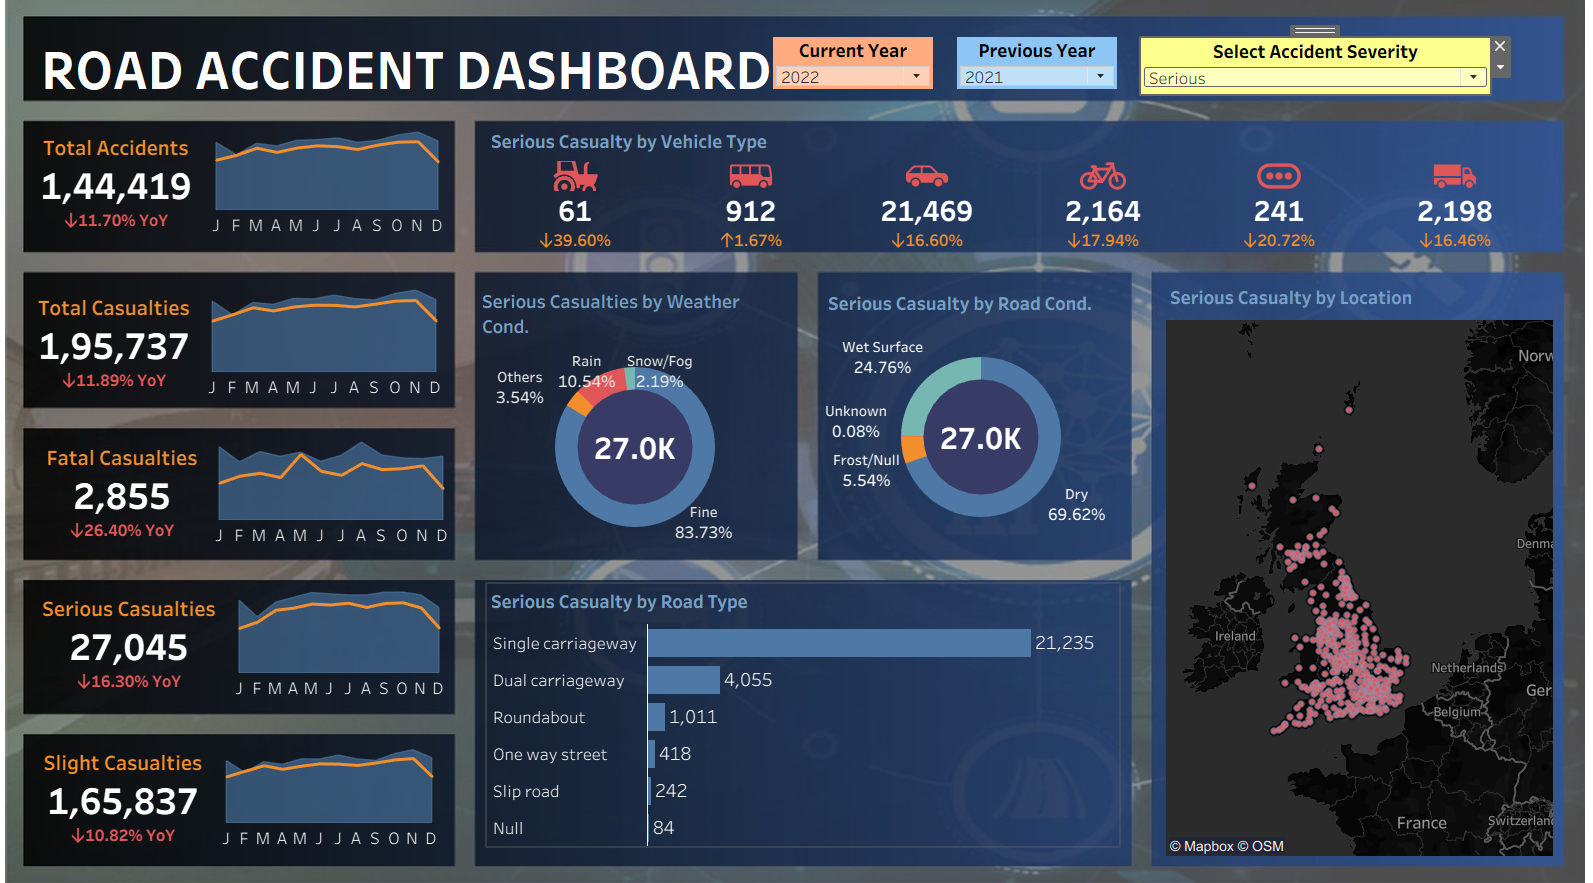

What the dashboard file says about the page in this screenshot:
{"tool":"tableau","page":{"name":"Dashboard 1","canvas":[1000,1000],"units":"permille","ordinal":0},"visuals":[{"type":"image","param":"Image/Background.jpg","box":[5,8.6,990,982.7]},{"type":"text","box":[27.2,57.2,494.3,77.8]},{"type":"parameter","param":"[Parameters].[Parameter 0280965394235394]","box":[486.2,62.6,99.8,56.2]},{"type":"parameter","param":"[Parameters].[Current Year (copy)_0280965395177475]","box":[601,62.6,99.8,56.2]},{"type":"parameter","param":"[Parameters].[Parameter 0567938290401281]","box":[715.8,63.7,217.6,60.5]},{"type":"worksheet","title":"Total Accidents","mark":"Automatic","box":[23.1,156.6,107.2,126.4]},{"type":"worksheet","title":"Accident Sparkline","mark":"Automatic","rows":["CY Accidents (copy)_0280965400219655","Calculation_0280965398462470"],"cols":["Accident Date"],"box":[130.3,156.6,155.8,126.4]},{"type":"text","box":[305.7,157.7,663.3,34.6]},{"type":"worksheet","title":"Vehicle Type Images","mark":"Shape","box":[305.7,192.2,663.3,36.7]},{"type":"worksheet","title":"Casualty by Vehicle Type KPI","mark":"Automatic","box":[305.7,229,663.3,68]},{"type":"worksheet","title":"Casualties by Location","mark":"Automatic","rows":["Latitude"],"cols":["Longitude"],"box":[731.5,325.1,241.1,622]},{"type":"worksheet","title":"Total Casualties","mark":"Automatic","box":[22.4,327.2,105.4,130.7]},{"type":"worksheet","title":"Total Casualty Sparkline","mark":"Automatic","rows":["CY Casualties (copy)_0280965444804618","Calculation_0280965443506185"],"cols":["Accident Date"],"box":[127.8,327.2,157.1,130.7]},{"type":"worksheet","title":"Weather Conditions","mark":"Pie","rows":["Calculation_1068216115617793","Calculation_1068216115617793"],"box":[302.5,329.4,195.6,281.9]},{"type":"worksheet","title":"Road Conditions","mark":"Pie","rows":["Calculation_1068216115617793","Calculation_1068216115617793"],"box":[518.4,331.5,195.6,282.9]},{"type":"worksheet","title":"Fatal Casualties","mark":"Automatic","box":[28.1,491.4,104.1,126.4]},{"type":"worksheet","title":"Fatal Casualty Sparkline","mark":"Automatic","rows":["CY Fatal Casualties (copy)_0280965472915469","Calculation_0280965471055884"],"cols":["Accident Date"],"box":[132.2,491.4,157.1,126.4]},{"type":"worksheet","title":"Serious Casualties","mark":"Automatic","box":[23.7,653.4,121.6,129.6]},{"type":"worksheet","title":"Serious Casualty Sparkline ","mark":"Automatic","rows":["PY Fatal Casualties (copy)_0280965474508816","CY Fatal Casualties (copy)_0280965474258959"],"cols":["Accident Date"],"box":[145.3,653.4,140.9,129.6]},{"type":"worksheet","title":"Casualties by Road Type","mark":"Automatic","rows":["Road_Type"],"cols":["Calculation_0280965443506185"],"box":[308.2,653.4,393.7,282.9]},{"type":"worksheet","title":"Slight Casualties","mark":"Automatic","box":[24.3,824,112.9,119.9]},{"type":"worksheet","title":"Slight Casualty Sparkline","mark":"Automatic","rows":["PY Serious Casualties  (copy)_0280965475819539","CY Serious Casualties  (copy)_0280965475590162"],"cols":["Accident Date"],"box":[137.2,824,144.6,119.9]}]}

Visuals, with their boxes on the dashboard's canvas, which has no fixed pixel size, in thousandths of its width and height (x1, y1, x2, y2). These are canvas units, not pixel positions in the 1593x883 screenshot, which may show the page scaled, cropped or inside an application window:
image: (5,9,995,991)
text: (27,57,522,135)
parameter: (486,63,586,119)
parameter: (601,63,701,119)
parameter: (716,64,933,124)
"Total Accidents" worksheet: (23,157,130,283)
"Accident Sparkline" worksheet: (130,157,286,283)
text: (306,158,969,192)
"Vehicle Type Images" worksheet (Shape marks): (306,192,969,229)
"Casualty by Vehicle Type KPI" worksheet: (306,229,969,297)
"Casualties by Location" worksheet: (732,325,973,947)
"Total Casualties" worksheet: (22,327,128,458)
"Total Casualty Sparkline" worksheet: (128,327,285,458)
"Weather Conditions" worksheet (Pie marks): (302,329,498,611)
"Road Conditions" worksheet (Pie marks): (518,332,714,614)
"Fatal Casualties" worksheet: (28,491,132,618)
"Fatal Casualty Sparkline" worksheet: (132,491,289,618)
"Serious Casualties" worksheet: (24,653,145,783)
"Serious Casualty Sparkline " worksheet: (145,653,286,783)
"Casualties by Road Type" worksheet: (308,653,702,936)
"Slight Casualties" worksheet: (24,824,137,944)
"Slight Casualty Sparkline" worksheet: (137,824,282,944)
